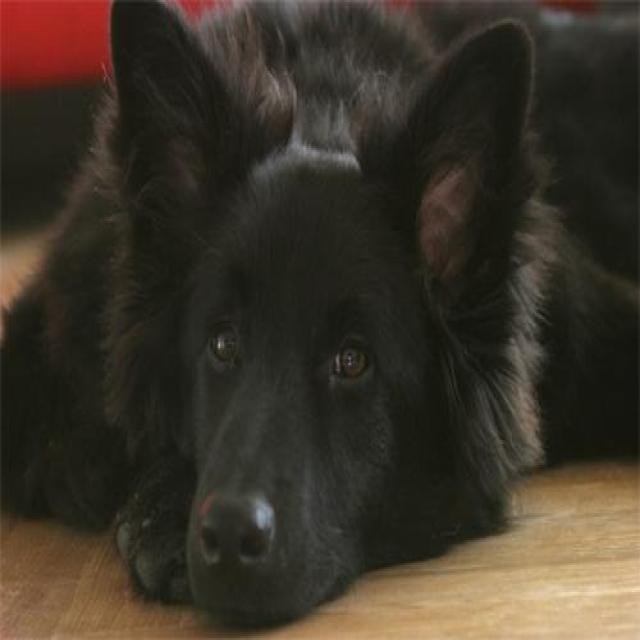dog: (90, 0, 562, 640)
